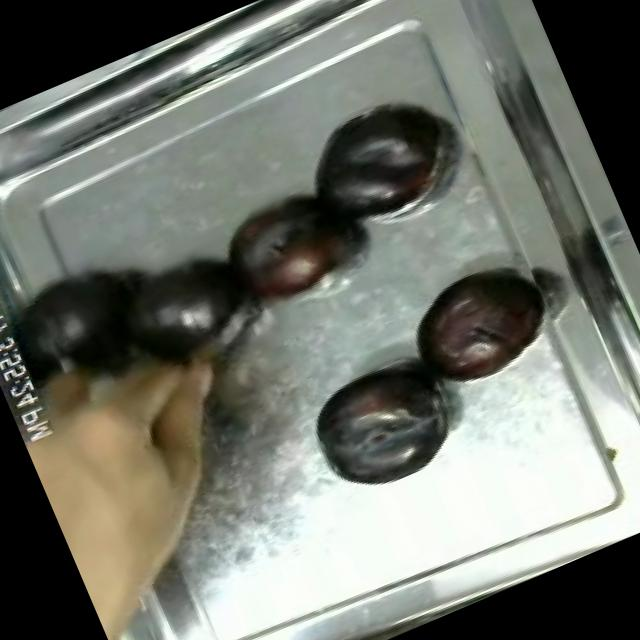Fruit: (294, 339, 474, 507), (199, 165, 385, 325), (284, 86, 458, 243), (391, 248, 564, 402)
